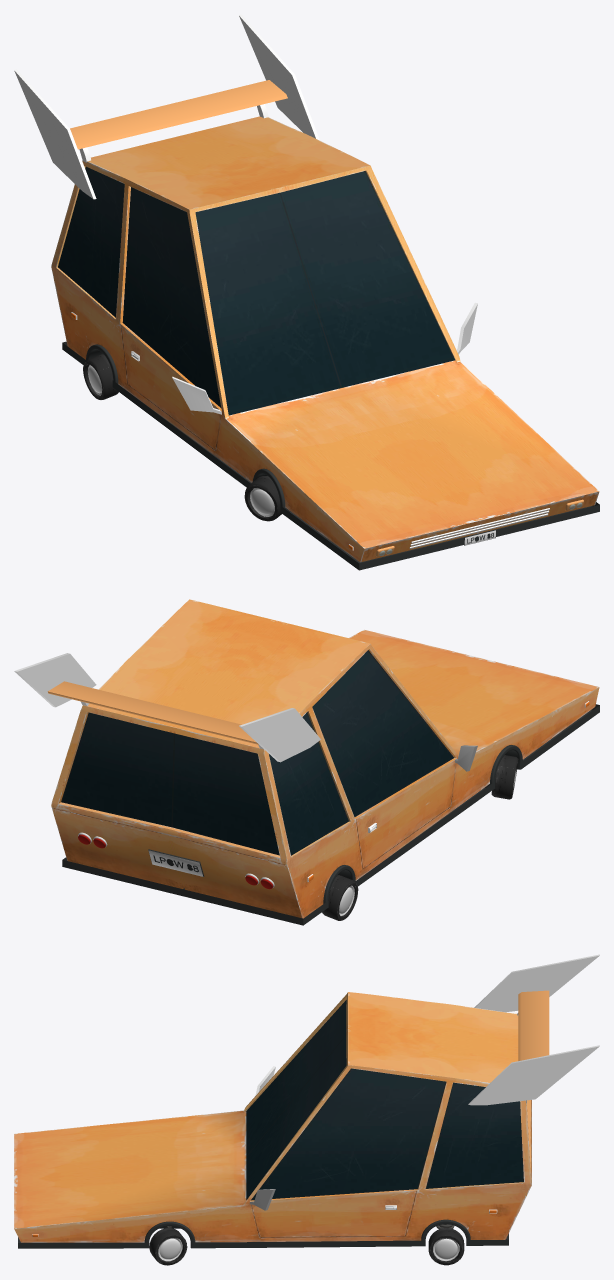
File: Long_Car.fbx
3 renders of one model, top to bottom at view 1: azimuth 30°, elevation 25°; view 2: azimuth 150°, elevation 25°; view 3: azimuth 270°, elevation 25°, orthographic. The views are drawn at different scales.
Parts seen in each view (by area): view 1: Body, Spoiler, Spoiler_main, Bumper, Mirror, Cylinder_2_4, Cylinder_2_5; view 2: Body, Spoiler, Bumper, Spoiler_main, Cylinder_2_5, Cylinder_2_4, Number, Arc; view 3: Body, Spoiler, Bumper, Spoiler_main, Cylinder_2_3, Cylinder_2_2, Mirror, Sphere, Sphere_2.
Part boxes in pixels (x1,y1,x2,y2): Body: (51,116,599,562); Spoiler: (14,14,319,199); Spoiler_main: (70,80,287,149); Bumper: (62,341,599,570); Mirror: (172,302,477,414); Cylinder_2_4: (83,354,118,399); Cylinder_2_5: (244,476,281,521); Body: (51,599,599,918); Spoiler: (14,653,320,762); Bumper: (62,704,599,925); Spoiler_main: (47,681,258,744); Cylinder_2_5: (491,755,518,799); Cylinder_2_4: (322,875,358,920); Number: (148,849,204,876); Arc: (484,745,522,788); Body: (14,992,531,1242); Spoiler: (468,954,599,1105); Bumper: (18,1226,508,1248); Spoiler_main: (518,990,549,1060); Cylinder_2_3: (149,1228,187,1265); Cylinder_2_2: (428,1228,464,1265); Mirror: (249,1066,275,1210); Sphere: (433,1238,459,1261); Sphere_2: (158,1238,182,1261).
Size of the model in its own units: 9021 by 7297 by 18103.
Materials: 9 (2 with a texture image).
